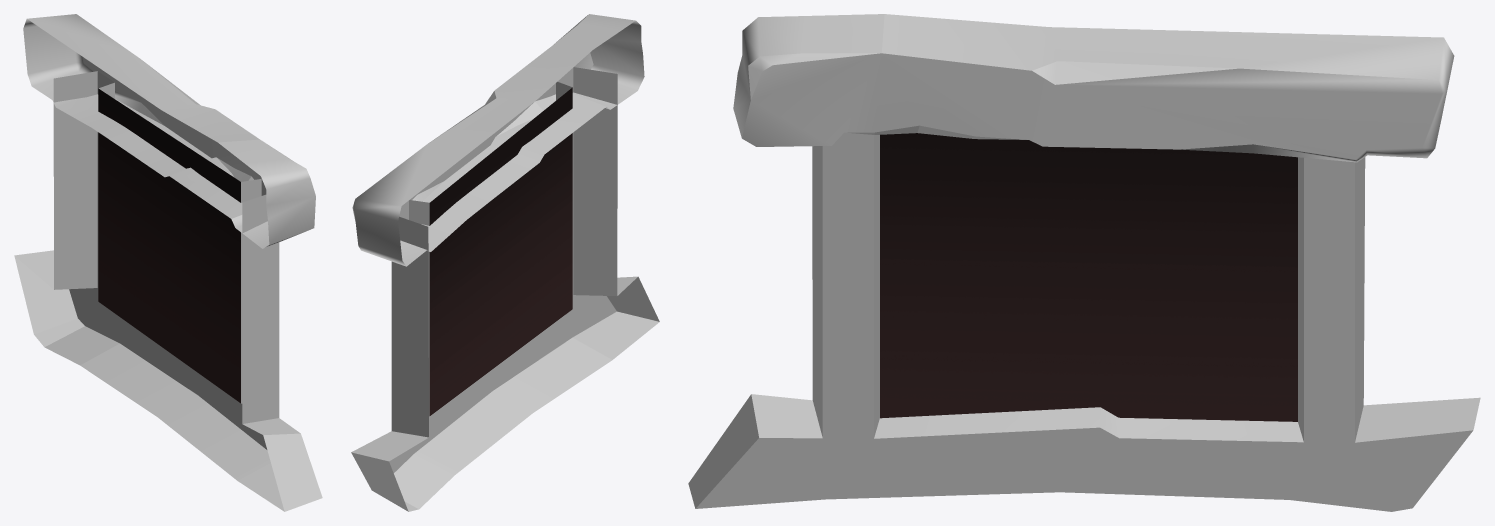
File: lower_city_window_07.fbx
3 views of the same model, side by side, from view 1: azimuth 30°, elevation 25°; view 2: azimuth 150°, elevation 25°; view 3: azimuth 270°, elevation 25° (orthographic). The views are drawn at different scales.
Parts seen in each view (by area): view 1: lower_city_window_07; view 2: lower_city_window_07; view 3: lower_city_window_07.
Boxes of the visible parts, x1=… form: lower_city_window_07: x1=14, y1=14, x2=322, y2=511; lower_city_window_07: x1=351, y1=14, x2=659, y2=511; lower_city_window_07: x1=688, y1=14, x2=1480, y2=511.
Size of the model in its own units: 0.1784 by 1.07 by 1.59.
